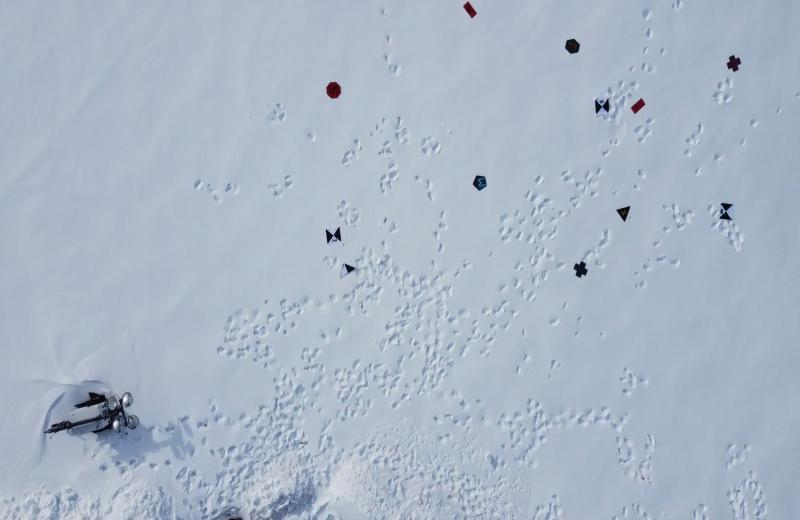Cross: (572, 260, 591, 279), (726, 56, 742, 72)
Hexagon: (566, 37, 581, 55)
Octagon: (326, 80, 342, 100)
Pentagon: (472, 174, 488, 193)
Rectangle: (462, 0, 478, 22), (629, 96, 646, 116)
Triangle: (615, 205, 632, 222)
